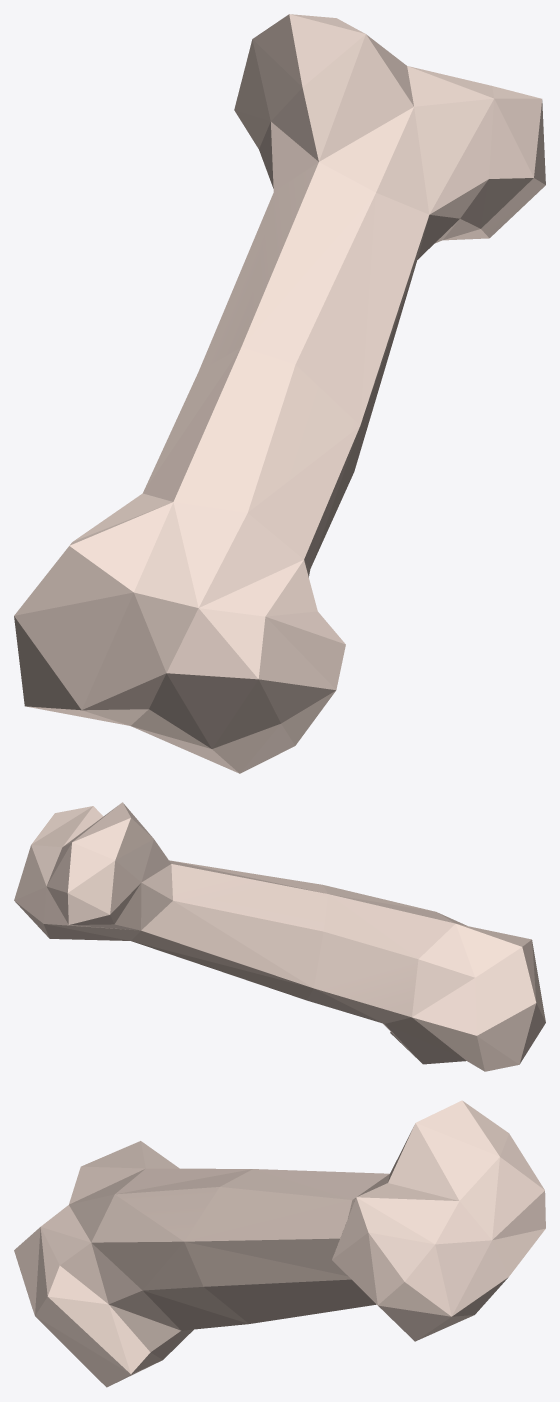
The model's file is deadSkelly_bone (3).fbx.
The picture shows the model from 3 angles, top to bottom: view 1: azimuth 30°, elevation 25°; view 2: azimuth 150°, elevation 25°; view 3: azimuth 270°, elevation 25°; orthographic projection. The views are drawn at different scales.
Parts seen in each view (by area): view 1: deadSkelly_bone (3); view 2: deadSkelly_bone (3); view 3: deadSkelly_bone (3).
Part boxes in pixels (bbox=[...]): deadSkelly_bone (3): bbox=[14, 14, 545, 773]; deadSkelly_bone (3): bbox=[14, 802, 545, 1071]; deadSkelly_bone (3): bbox=[14, 1100, 545, 1387].
Bounding box in the file's own units: 0.3551 × 0.2546 × 0.3221.
